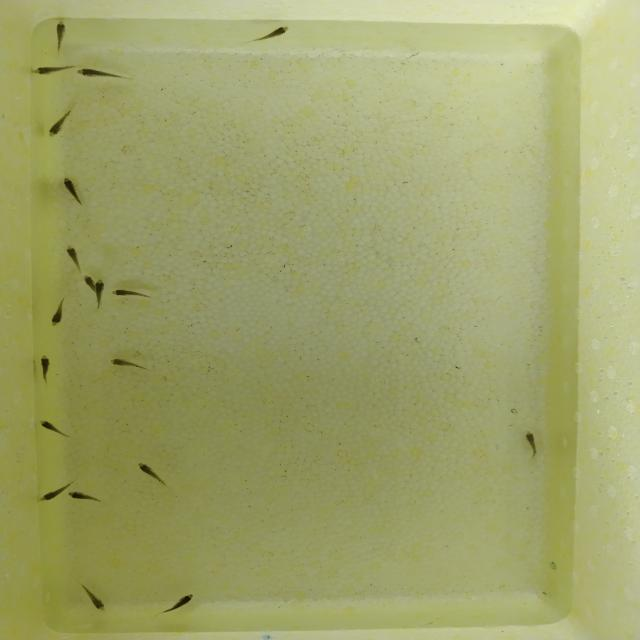fingerling: (132, 459, 160, 482), (38, 485, 68, 505), (171, 590, 199, 611), (50, 299, 70, 328), (522, 426, 541, 456), (60, 175, 84, 198), (61, 243, 85, 265), (86, 588, 106, 613), (29, 64, 62, 79), (66, 489, 98, 504), (75, 67, 111, 80), (48, 114, 66, 139), (37, 418, 62, 434), (108, 356, 136, 370), (266, 25, 293, 39), (112, 288, 143, 298), (91, 279, 111, 293), (54, 19, 66, 41), (39, 354, 52, 374), (80, 272, 96, 287)
